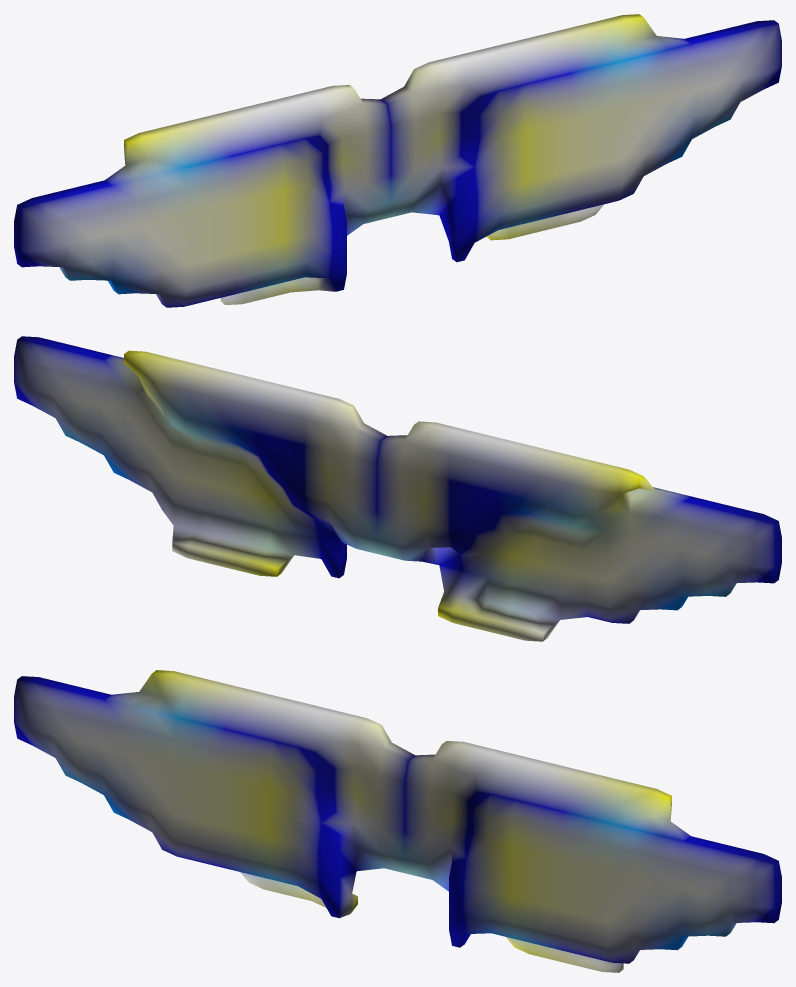
3 views of the same model, one above another, from view 1: azimuth 30°, elevation 25°; view 2: azimuth 150°, elevation 25°; view 3: azimuth 330°, elevation 25° (orthographic).
Bounding box in the file's own units: 1.58 × 0.3775 × 0.1.
